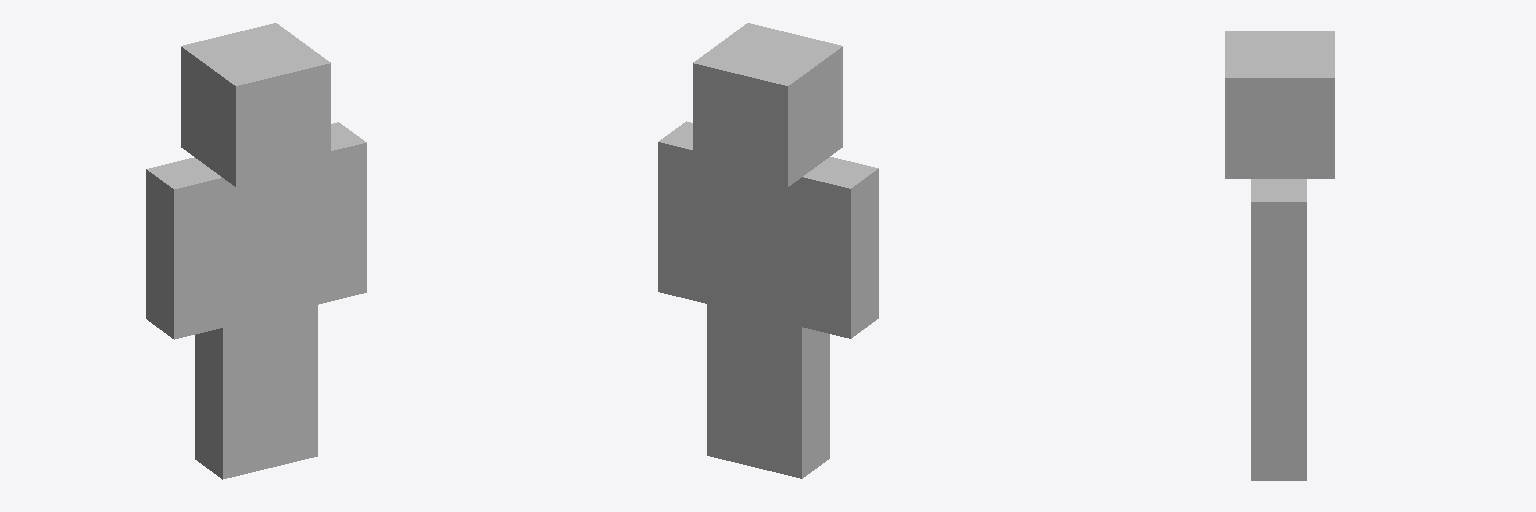
File: billosteve.obj
3 renders of one model, left to right at view 1: azimuth 30°, elevation 25°; view 2: azimuth 150°, elevation 25°; view 3: azimuth 270°, elevation 25°, orthographic.
Parts seen in each view (by area): view 1: Cube_Cube.001; view 2: Cube_Cube.001; view 3: Cube_Cube.001.
Boxes of the visible parts, x1,y1,x2,y2 form: Cube_Cube.001: [146, 23, 366, 479]; Cube_Cube.001: [658, 23, 878, 478]; Cube_Cube.001: [1225, 31, 1334, 480].
Size of the model in its own units: 0.955 by 1.91 by 0.4728.